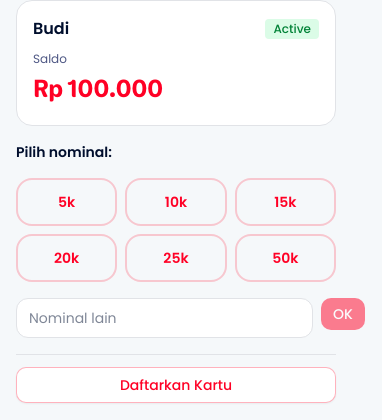
Test: KioskSection - ready phase (tap step) › transitions to confirm step when quick amount clicked
Click the button "10k" at [176, 202], box [125, 178, 227, 226]
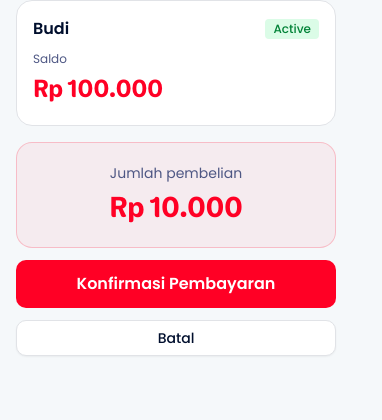
Expected: the button "Konfirmasi Pembayaran" is shown, [16, 260, 336, 308]
Expected: the text "Rp 10.000" is shown, [109, 190, 243, 224]
